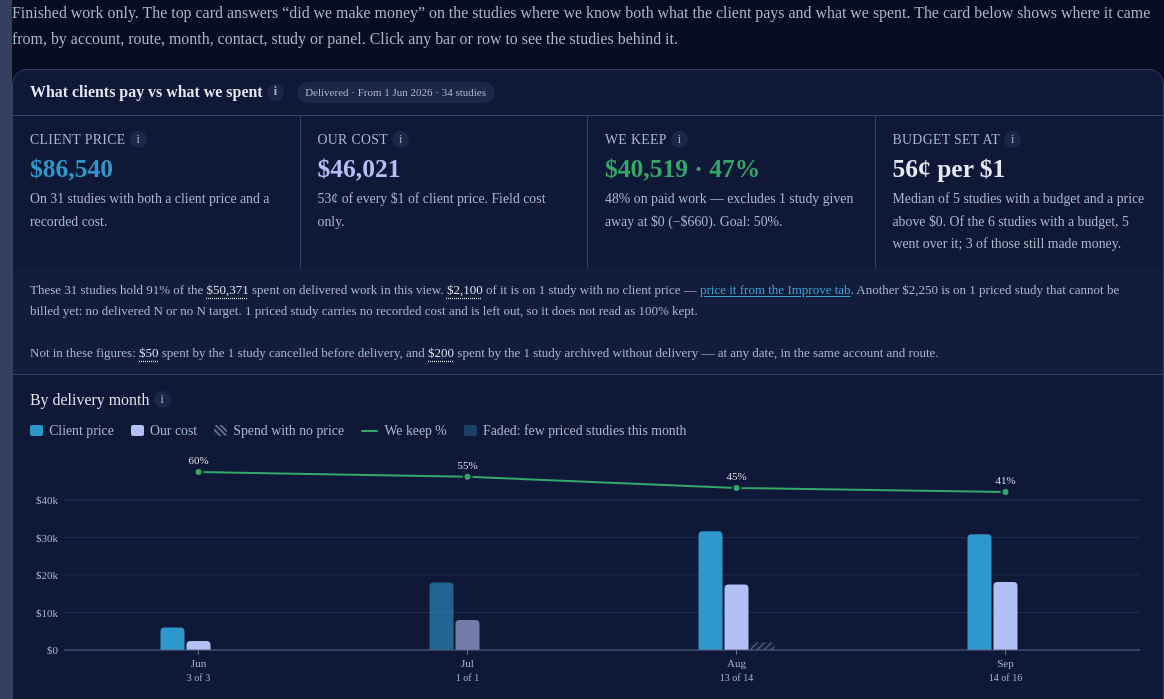
ResultsTab › opens the spend waterfall in place from the coverage line
Click the button "$50,371": (228, 289) [207,279,249,300]
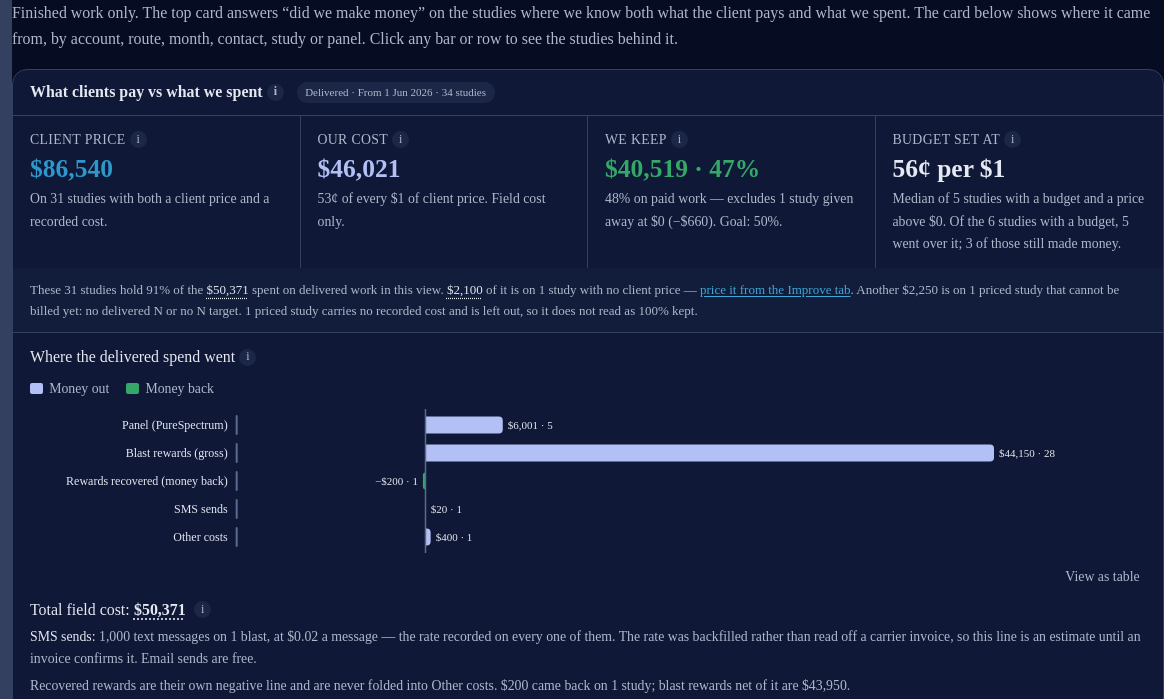
Check: the text "Where the delivered spend went" is shown, box [30,348,235,365]
Check: the text "at $0.02 a message" is shown, box [30,629,1141,666]
